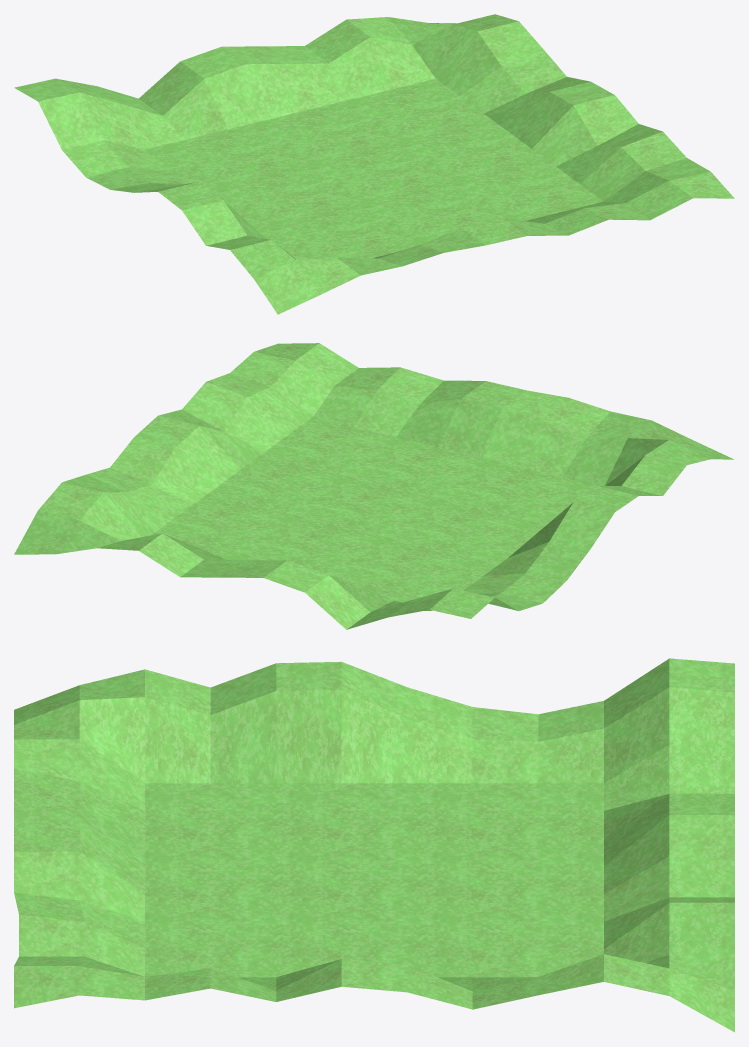
The model's file is ground.obj.
The picture shows the model from 3 angles, top to bottom: view 1: azimuth 30°, elevation 25°; view 2: azimuth 150°, elevation 25°; view 3: azimuth 270°, elevation 25°; orthographic projection. The views are drawn at different scales.
Parts seen in each view (by area): view 1: 平面; view 2: 平面; view 3: 平面.
Part boxes in pixels (x1=…): 平面: x1=14, y1=14, x2=734, y2=314; 平面: x1=14, y1=343, x2=733, y2=629; 平面: x1=14, y1=658, x2=734, y2=1032.
Size of the model in its own units: 600 by 63.81 by 600.
Materials: 1 (1 with a texture image).
